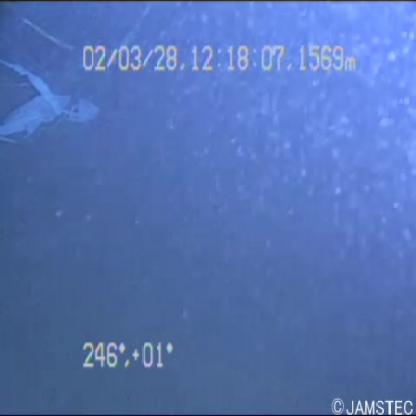Rác: (1, 32, 97, 174)
